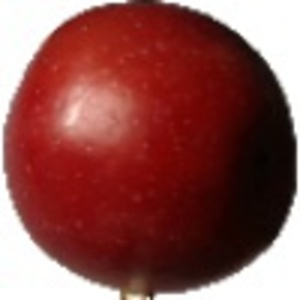maçã braeburn: (3, 1, 295, 294)
